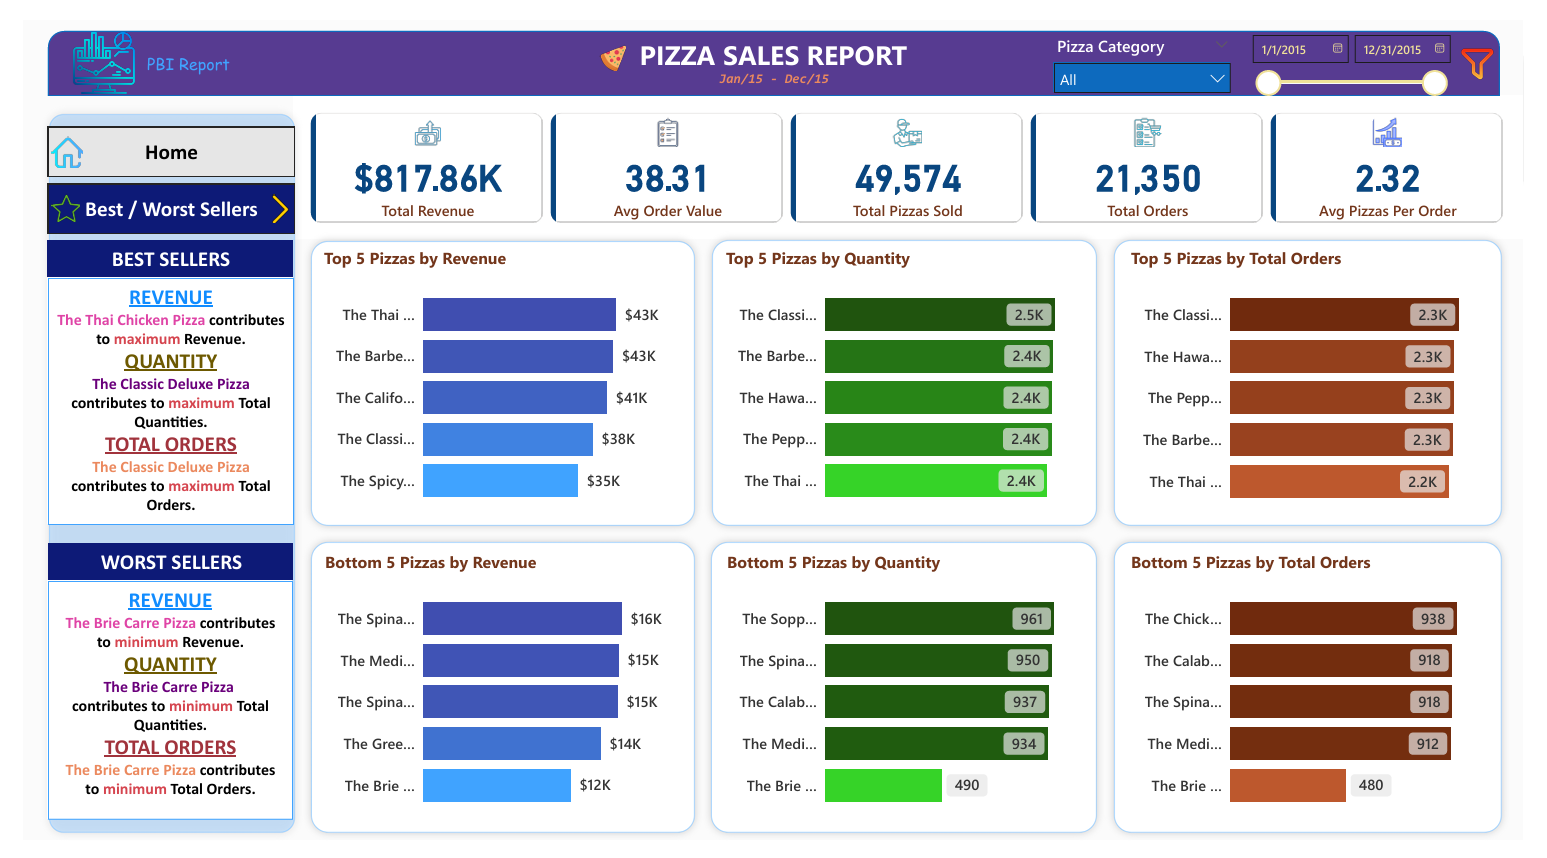

What the dashboard file says about the page in this screenshot:
{"tool":"powerbi","page":{"name":"Best / Worst Sellers","canvas":[1500,820],"ordinal":1},"visuals":[{"type":"cardVisual","fields":{"Data":["pizza_sales.Total Revenue","pizza_sales.Average Order Value","pizza_sales.Total Pizzas Sold","pizza_sales.Total Orders","pizza_sales.Average Pizzas Per Order"]},"box":[270,75,1230,143.8],"z":0},{"type":"shape","box":[23.8,10,1452.5,65],"z":1000},{"type":"textbox","box":[597.5,10,303.8,47.5],"z":2000},{"type":"textbox","box":[680,42.5,140,32.5],"z":3000},{"type":"image","box":[576.2,16.2,26.2,41.2],"z":4000},{"type":"shape","box":[278.6,211.8,400.5,301.7],"z":5000},{"type":"shape","box":[17,85,262.1,735.3],"z":6000},{"type":"textbox","box":[24.4,219.5,245.2,37.2],"z":7000},{"type":"textbox","box":[24.4,256.7,245.2,247.7],"z":8000},{"type":"textbox","box":[24.1,559.6,245.1,239.4],"z":9000},{"type":"textbox","box":[24.5,523.3,245.3,36.8],"z":10000},{"type":"shape","box":[680.3,210.5,400.5,302.9],"z":11000},{"type":"shape","box":[1082.1,210.5,404.4,302.9],"z":12000},{"type":"shape","box":[278.6,513.5,400.5,306.8],"z":13000},{"type":"shape","box":[679.1,513.5,401.8,306.8],"z":14000},{"type":"shape","box":[1082.1,513.2,404.4,306.8],"z":15000},{"type":"barChart","title":"Top 5 Pizzas by Revenue","fields":{"Category":["pizza_sales.pizza_name"],"Y":["pizza_sales.Total Revenue"]},"box":[295.2,225.9,367.1,272.1],"z":16000},{"type":"barChart","title":"Bottom 5 Pizzas by Revenue","fields":{"Category":["pizza_sales.pizza_name"],"Y":["pizza_sales.Total Revenue"]},"box":[295.7,530.1,366.6,272.5],"z":17000},{"type":"barChart","title":"Top 5 Pizzas by Quantity","fields":{"Category":["pizza_sales.pizza_name"],"Y":["pizza_sales.Total Pizzas Sold"]},"box":[697,225.9,367.1,272.1],"z":18000},{"type":"barChart","title":"Bottom 5 Pizzas by Quantity","fields":{"Category":["pizza_sales.pizza_name"],"Y":["pizza_sales.Total Pizzas Sold"]},"box":[697.7,530.1,366.6,272.5],"z":19000},{"type":"barChart","title":"Top 5 Pizzas by Total Orders","fields":{"Category":["pizza_sales.pizza_name"],"Y":["pizza_sales.Total Orders"]},"box":[1102.4,226.2,366.6,272.5],"z":20000},{"type":"barChart","title":"Bottom 5 Pizzas by Total Orders","fields":{"Category":["pizza_sales.pizza_name"],"Y":["pizza_sales.Total Orders"]},"box":[1102.4,530.1,366.6,272.5],"z":21000},{"type":"pageNavigator","box":[24.1,106.3,246.5,49.6],"z":22000},{"type":"pageNavigator","box":[24.1,162.9,246.5,49.6],"z":23000},{"type":"image","box":[242.3,162.9,28.3,49.6],"z":24000},{"type":"image","box":[28.3,107.7,31.2,48.2],"z":25000},{"type":"image","box":[28.3,162.9,28.3,48.2],"z":26000},{"type":"slicer","fields":{"Values":["pizza_sales.pizza_category"]},"box":[1020,8.5,196.9,65.2],"z":27000},{"type":"slicer","fields":{"Values":["pizza_sales.order_date"]},"box":[1215.6,4.3,216.8,75.1],"z":28000},{"type":"image","box":[1430.9,9.9,45.3,65.2],"z":29000},{"type":"image","box":[24.4,10.3,110.4,64.2],"z":30000},{"type":"textbox","box":[110.5,25.5,107.7,34],"z":31000}]}

Visuals, with their boxes in screenshot pixels (x1, y1, x2, y2), scaled from the page's 1500x820 canvas onto the 1547x858 screenshot:
cardVisual - pizza_sales.Total Revenue x pizza_sales.Average Order Value: (278, 78, 1546, 229)
shape: (25, 10, 1523, 78)
textbox: (616, 10, 930, 60)
textbox: (701, 44, 846, 78)
image: (594, 17, 621, 60)
shape: (287, 222, 700, 537)
shape: (18, 89, 288, 857)
textbox: (25, 230, 278, 269)
textbox: (25, 269, 278, 528)
textbox: (25, 586, 278, 836)
textbox: (25, 548, 278, 586)
shape: (702, 220, 1115, 537)
shape: (1116, 220, 1533, 537)
shape: (287, 537, 700, 857)
shape: (700, 537, 1115, 857)
shape: (1116, 537, 1533, 857)
"Top 5 Pizzas by Revenue" barChart: (304, 236, 683, 521)
"Bottom 5 Pizzas by Revenue" barChart: (305, 555, 683, 840)
"Top 5 Pizzas by Quantity" barChart: (719, 236, 1097, 521)
"Bottom 5 Pizzas by Quantity" barChart: (720, 555, 1098, 840)
"Top 5 Pizzas by Total Orders" barChart: (1137, 237, 1515, 522)
"Bottom 5 Pizzas by Total Orders" barChart: (1137, 555, 1515, 840)
pageNavigator: (25, 111, 279, 163)
pageNavigator: (25, 170, 279, 222)
image: (250, 170, 279, 222)
image: (29, 113, 61, 163)
image: (29, 170, 58, 221)
slicer - pizza_sales.pizza_category: (1052, 9, 1255, 77)
slicer - pizza_sales.order_date: (1254, 4, 1477, 83)
image: (1476, 10, 1522, 79)
image: (25, 11, 139, 78)
textbox: (114, 27, 225, 62)
